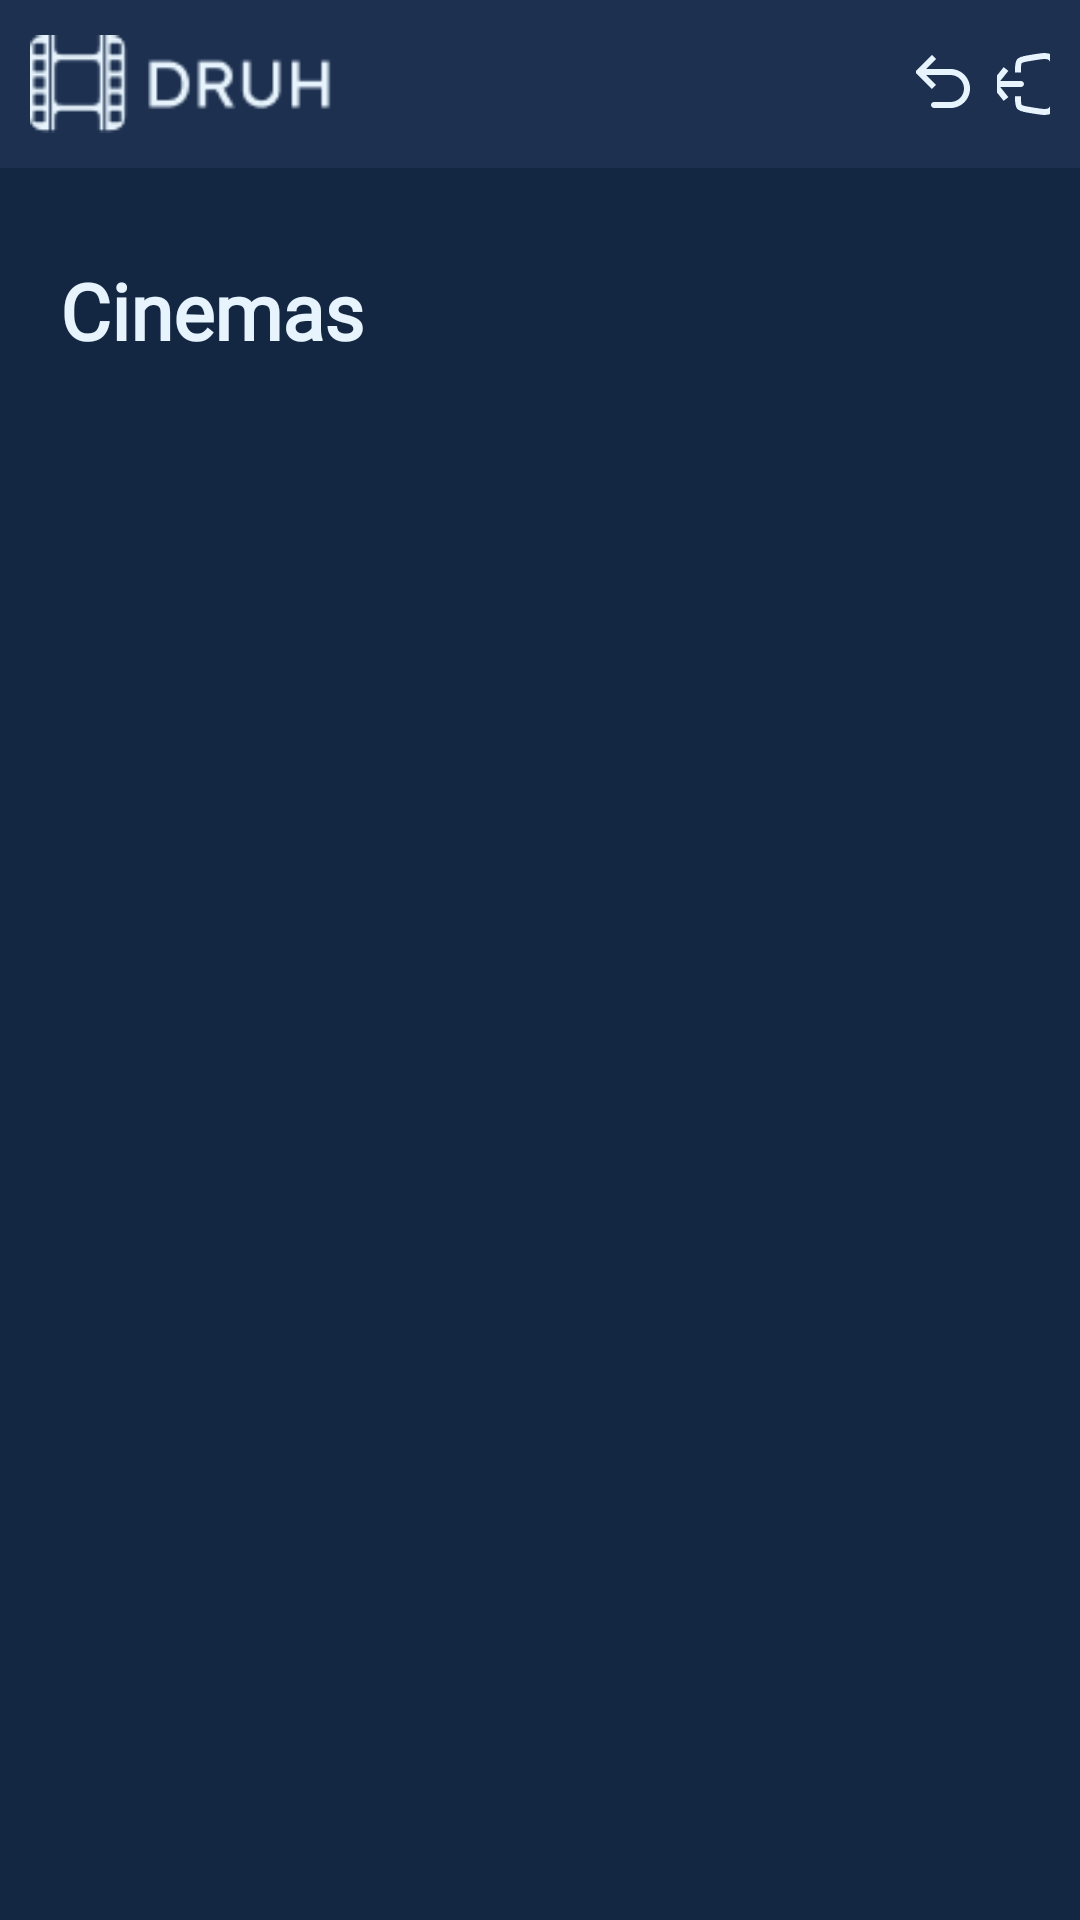

Icon bounding boxes for this 1080x1920 phone screenshot, format (x1, y1, x2, y2):
back: (916, 55, 970, 108)
